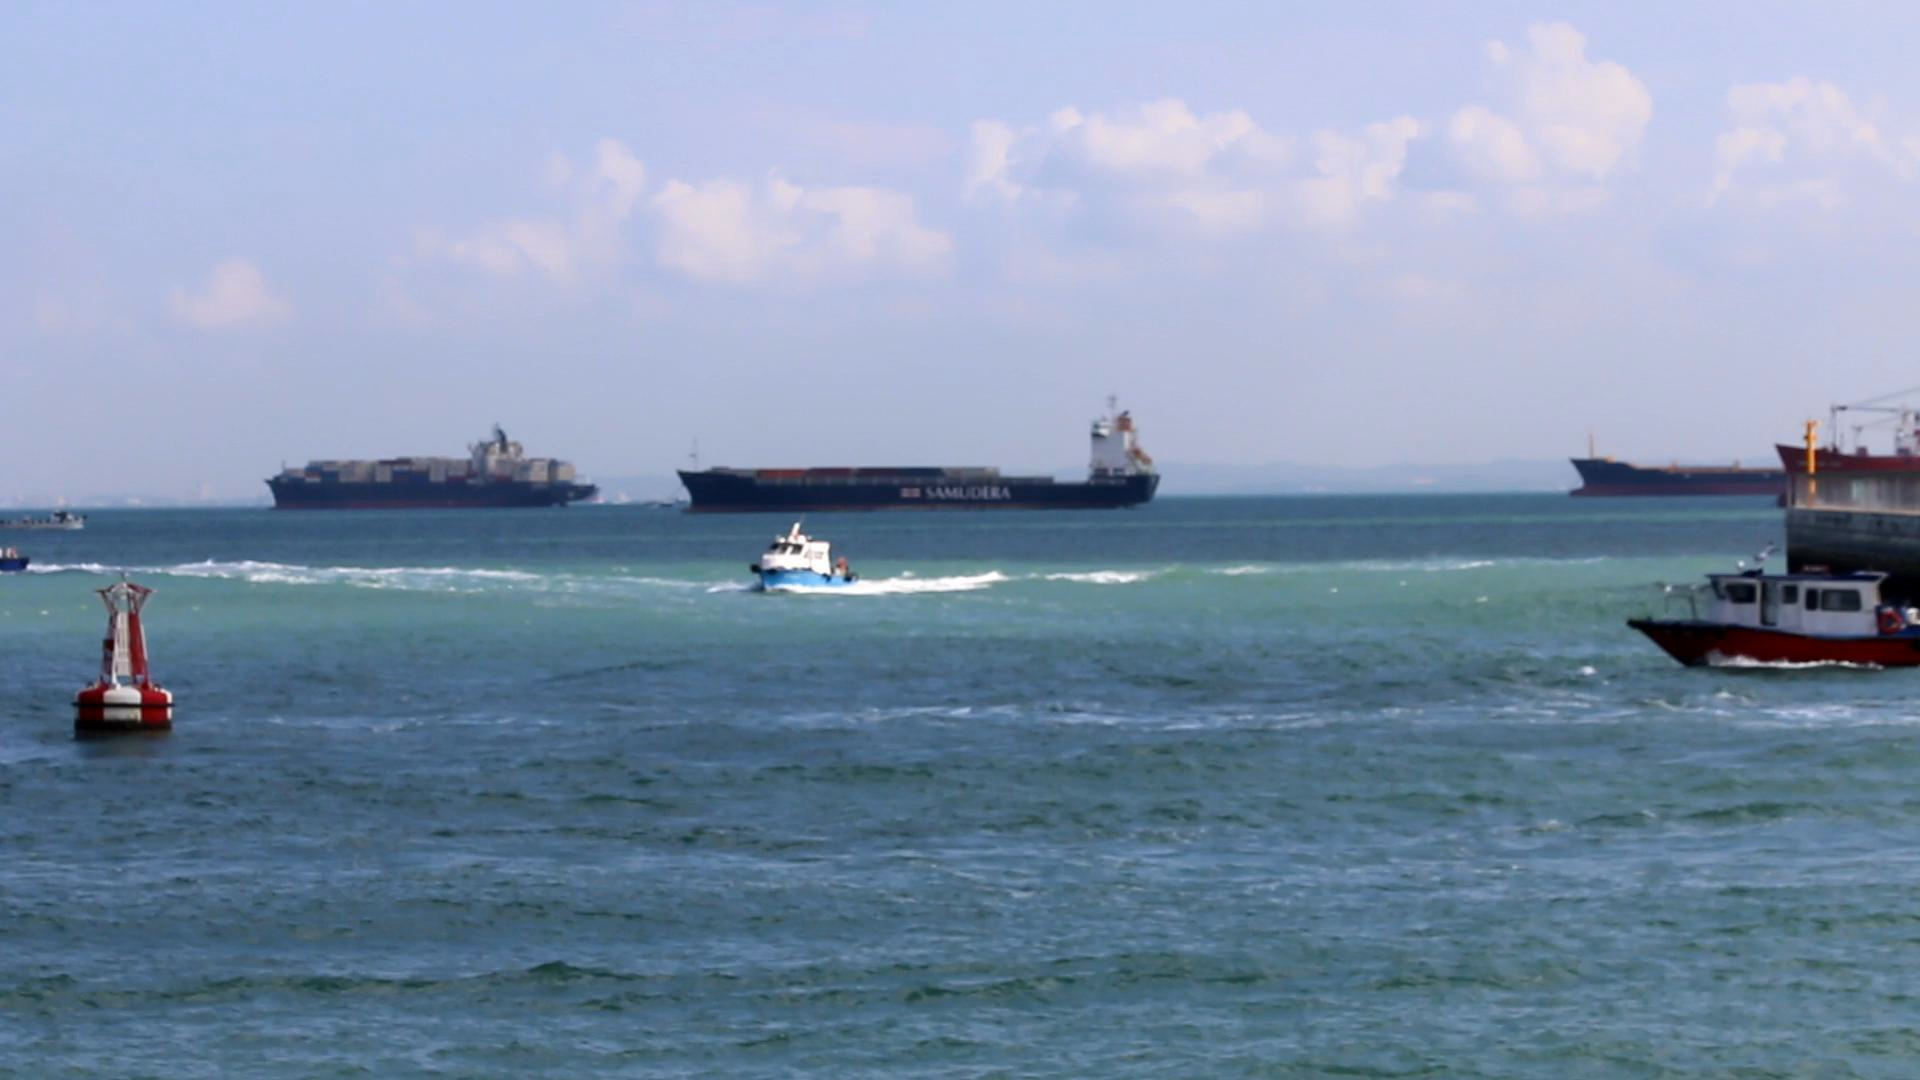Container Ship: (675, 390, 1162, 517), (264, 422, 597, 513), (1568, 431, 1789, 500)
